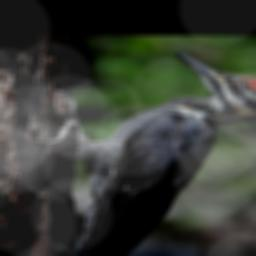Woodpecker: (49, 51, 256, 256)
